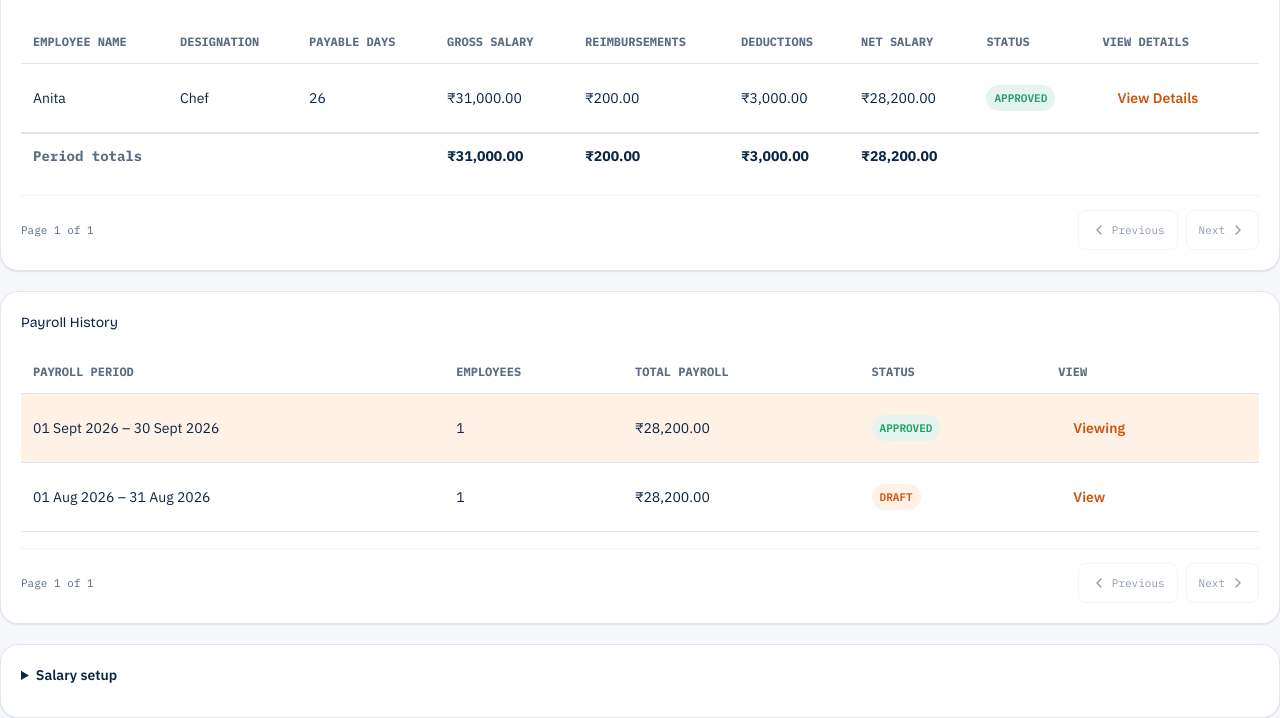
Test case: simple payroll workspace › switches periods through history and prevents draft payslips
(page scrolled)
Click the button with aria-label "View payroll 2026-08-01 to 2026-08-31". click: (1089, 497)
box: [1058,475,1120,519]
(page scrolled)
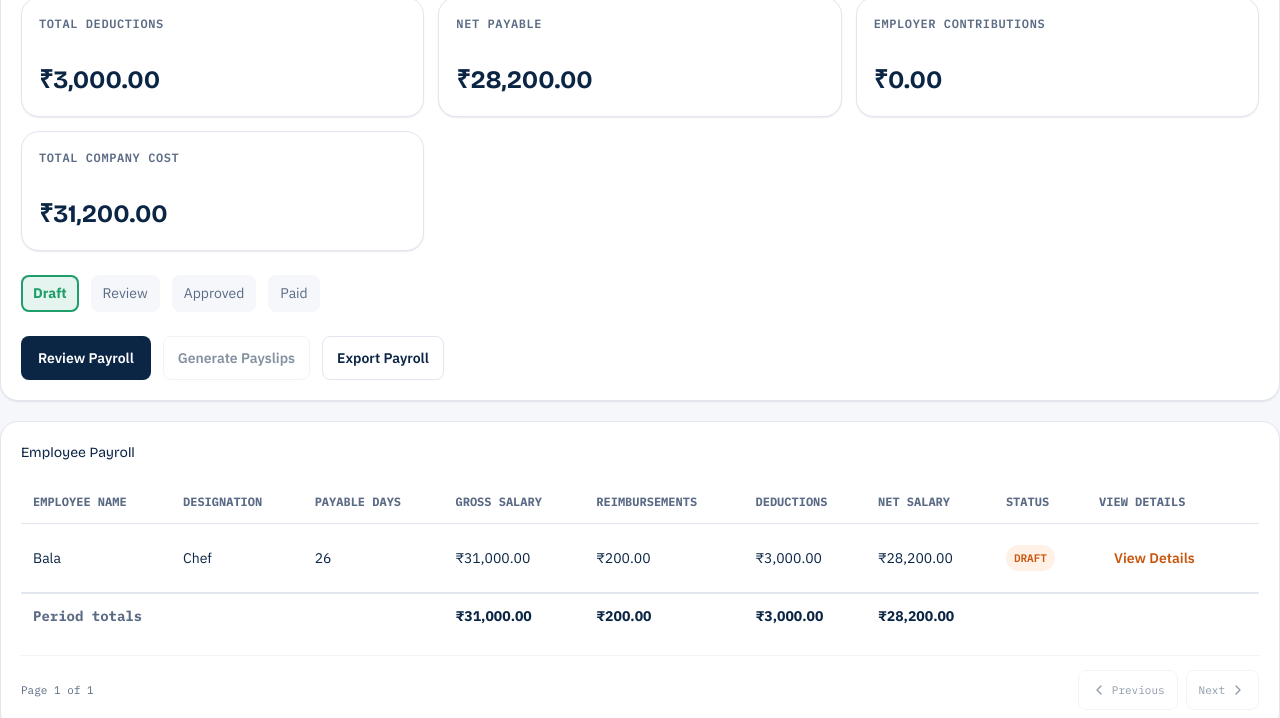
Expected: the button with aria-label "View details for Bala" is shown, [1099,536,1210,580]
Result: the button "Generate Payslips" is disabled at [163,336,310,380]
Result: the button "Review Payroll" is shown at [21,336,151,380]
